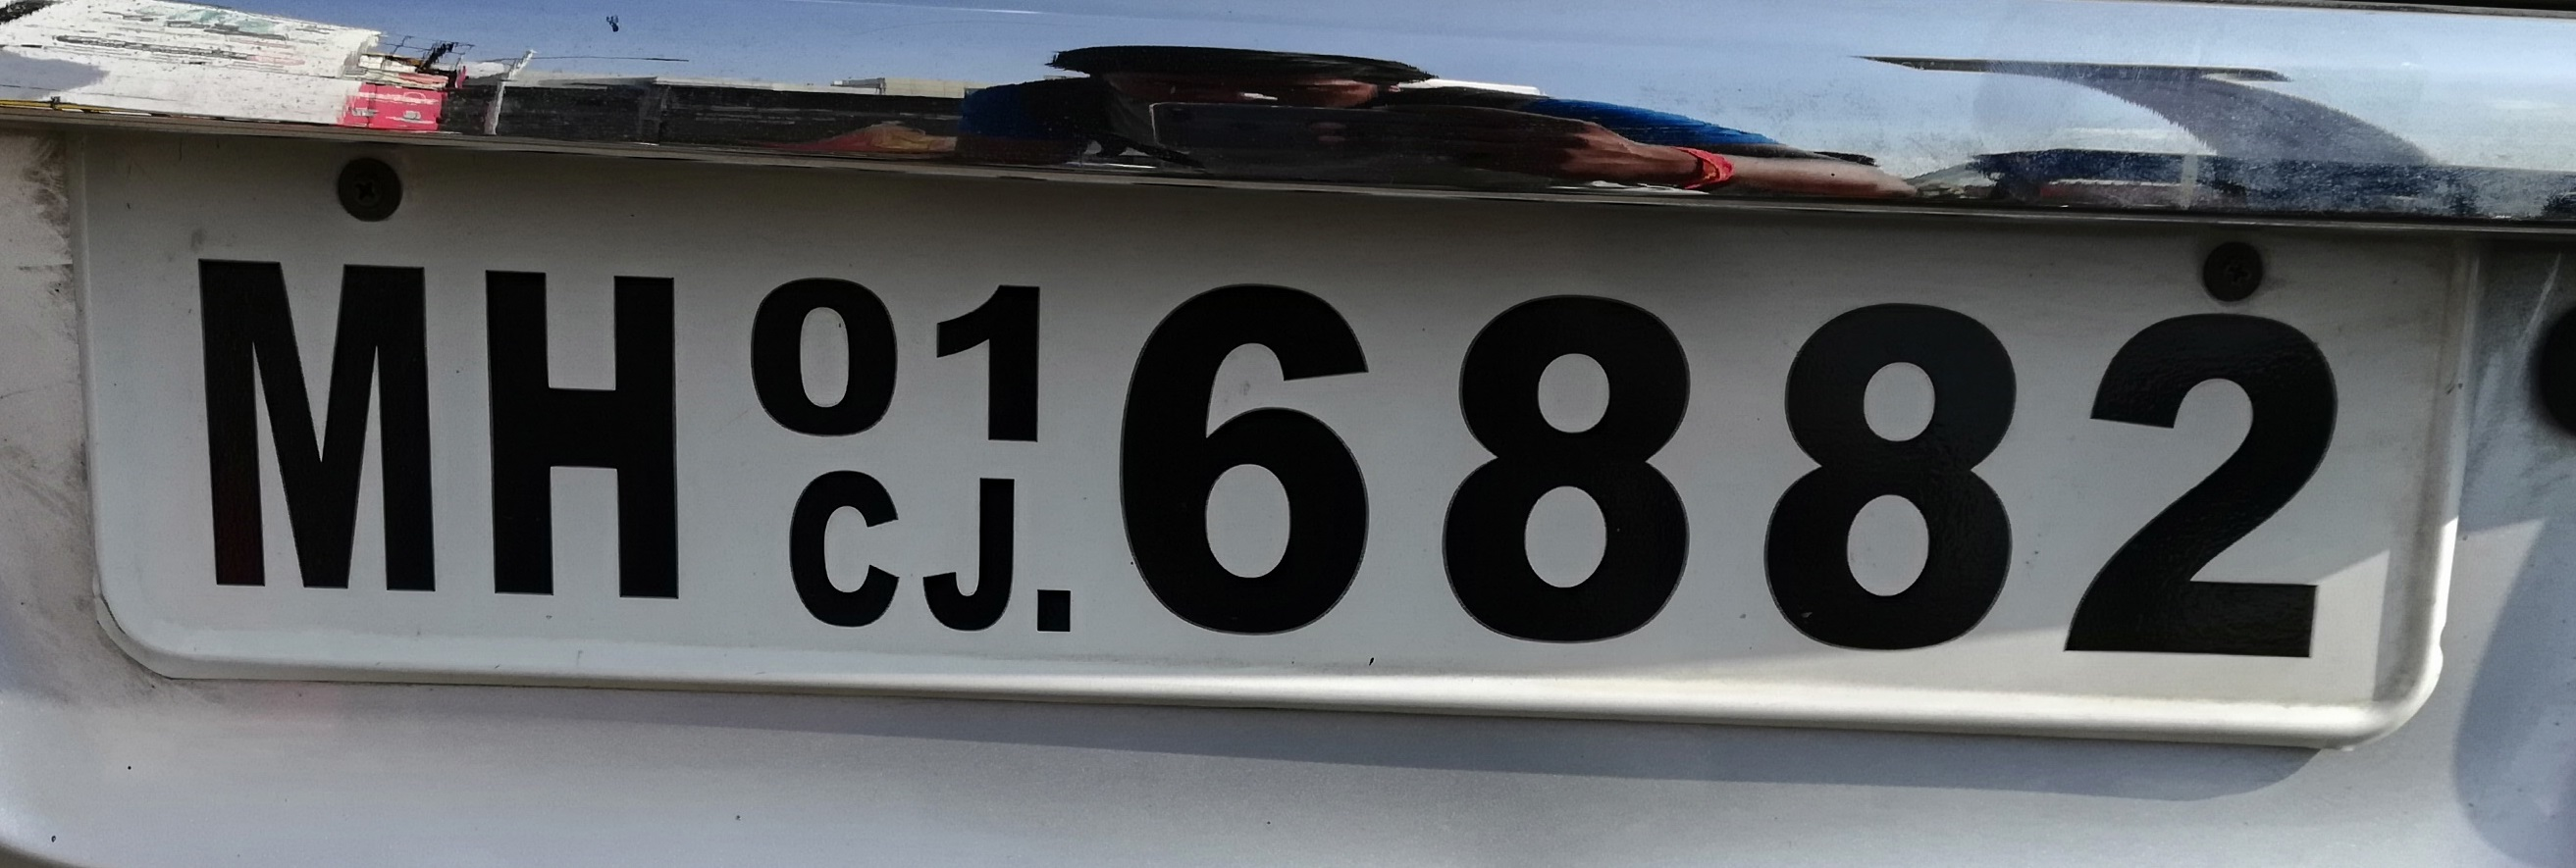numberplate: (55, 121, 2491, 760)
